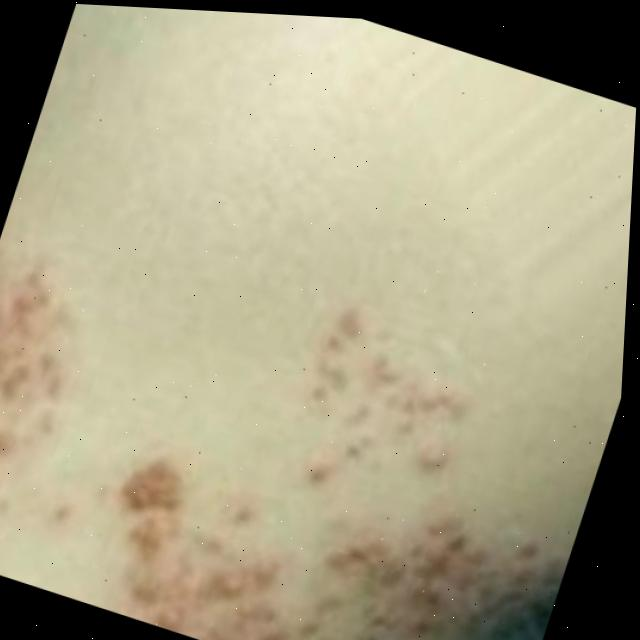Shingles: (81, 287, 615, 640), (0, 191, 118, 537)
